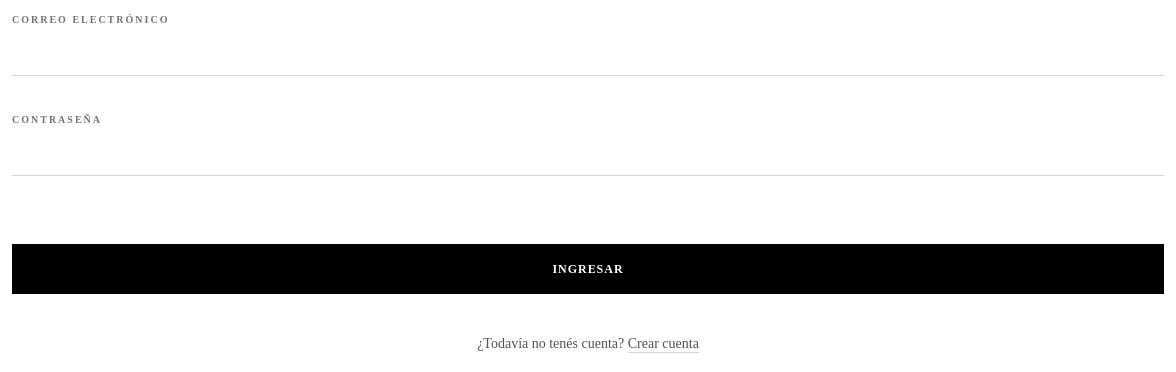
SignInForm: validation › shows Spanish messages, aria-invalid and does not call the server for an empty submit
What coordinates should you click on to do the following:
click the button "Ingresar"
I would click on:
 (588, 269)
Its box is [12,244,1164,294].
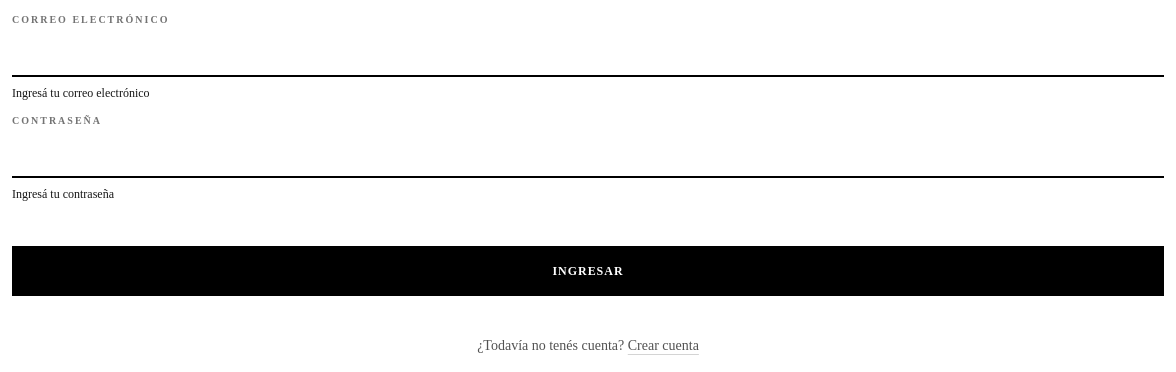
expect the text "Ingresá tu correo electrónico" is shown: met, box [12,86,150,100]
expect the text "Ingresá tu contraseña" is shown: met, box [12,187,114,201]
